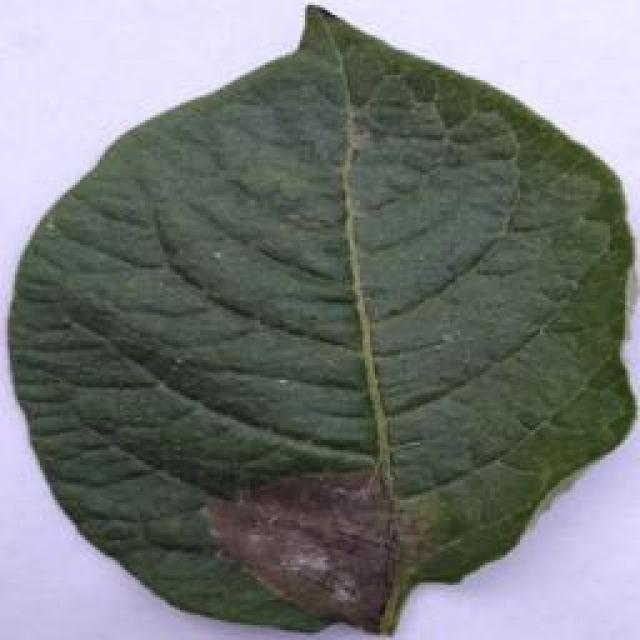Potato_Late_Blight: (3, 4, 635, 630)
